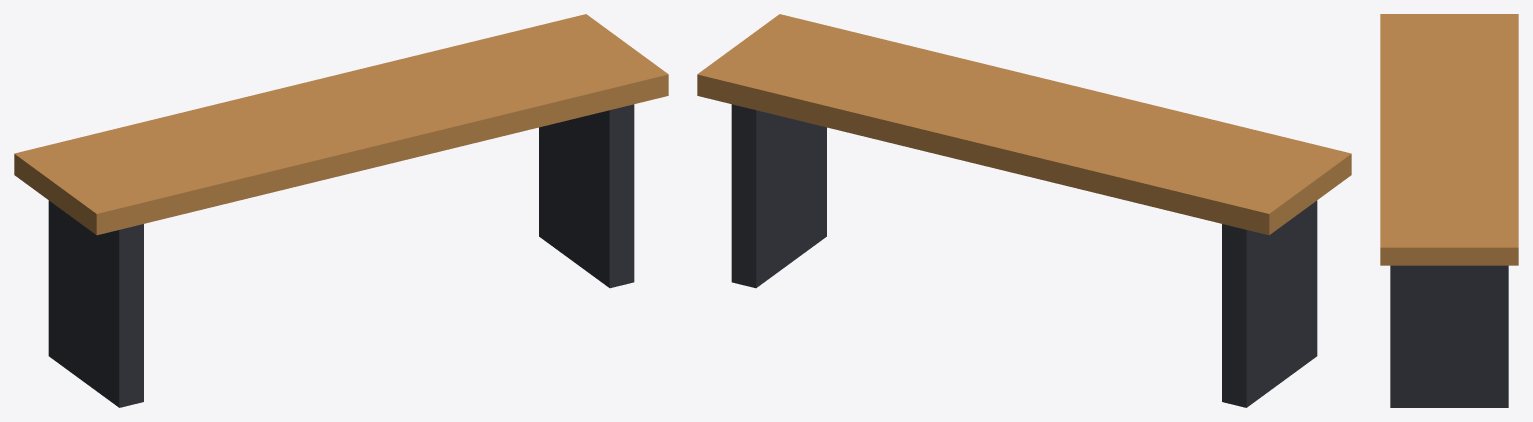
File: bench.glb
3 views of the same model, side by side, from view 1: azimuth 30°, elevation 25°; view 2: azimuth 150°, elevation 25°; view 3: azimuth 270°, elevation 25° (orthographic). The views are drawn at different scales.
Parts seen in each view (by area): view 1: bench; view 2: bench; view 3: bench.
Boxes of the visible parts, x1,y1,x2,y2 form: bench: (14,14,668,407); bench: (697,14,1351,407); bench: (1380,14,1518,407).
Bounding box in the file's own units: 1.4 × 0.48 × 0.35.
